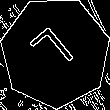L_SE: (28, 23, 83, 81)
